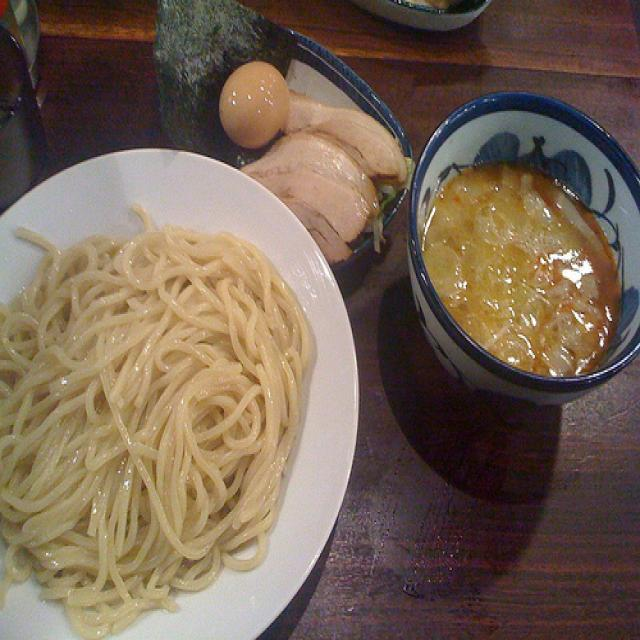面条主食: (0, 34, 632, 626)
